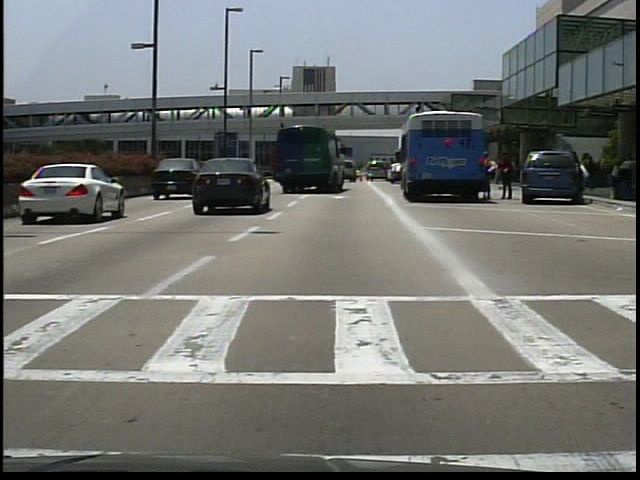person: (479, 151, 497, 203), (497, 154, 513, 200), (576, 160, 593, 201)
